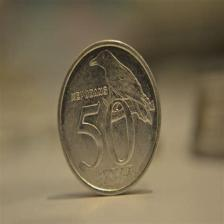coin_50_1999: (57, 38, 166, 197)
